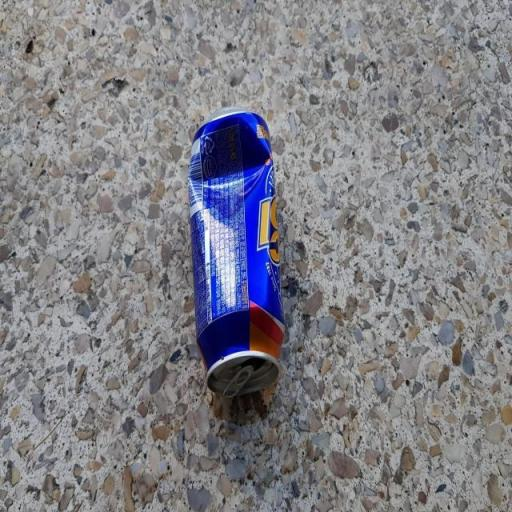metal: (178, 96, 296, 412)
